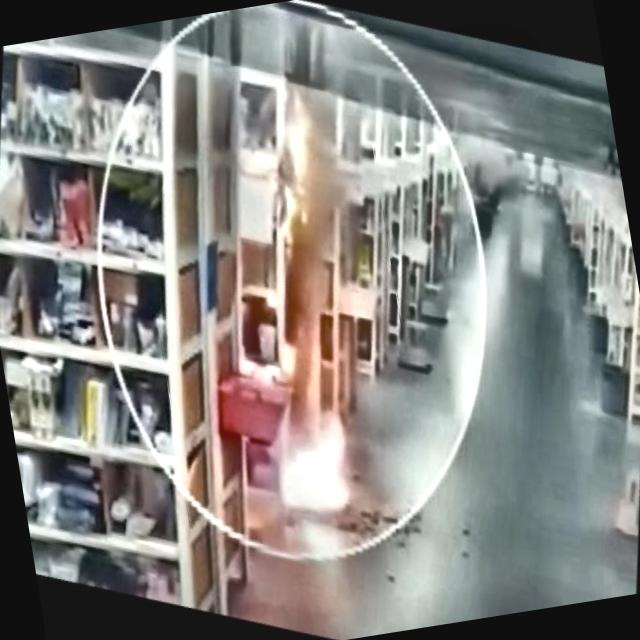fire: (193, 68, 446, 556)
